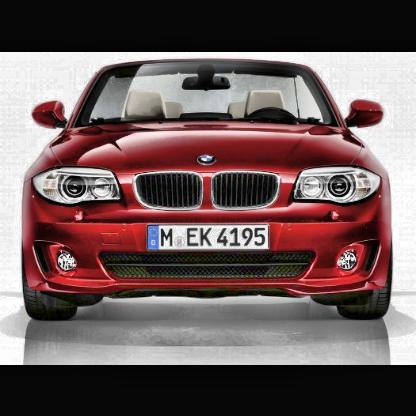BMW 1 Series Convertible 2012: (23, 58, 395, 322)
